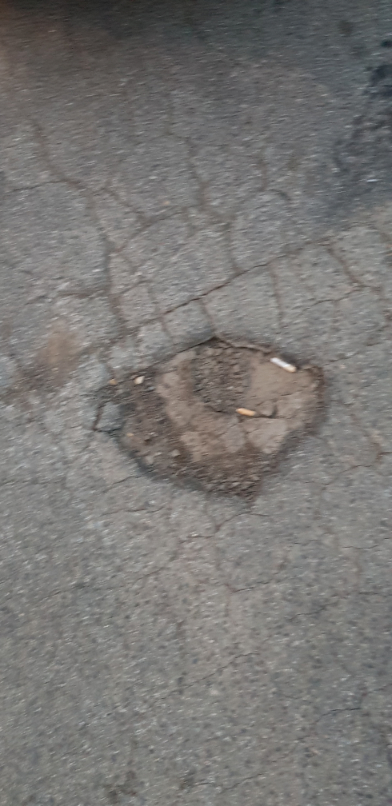pothole: (87, 326, 332, 508)
